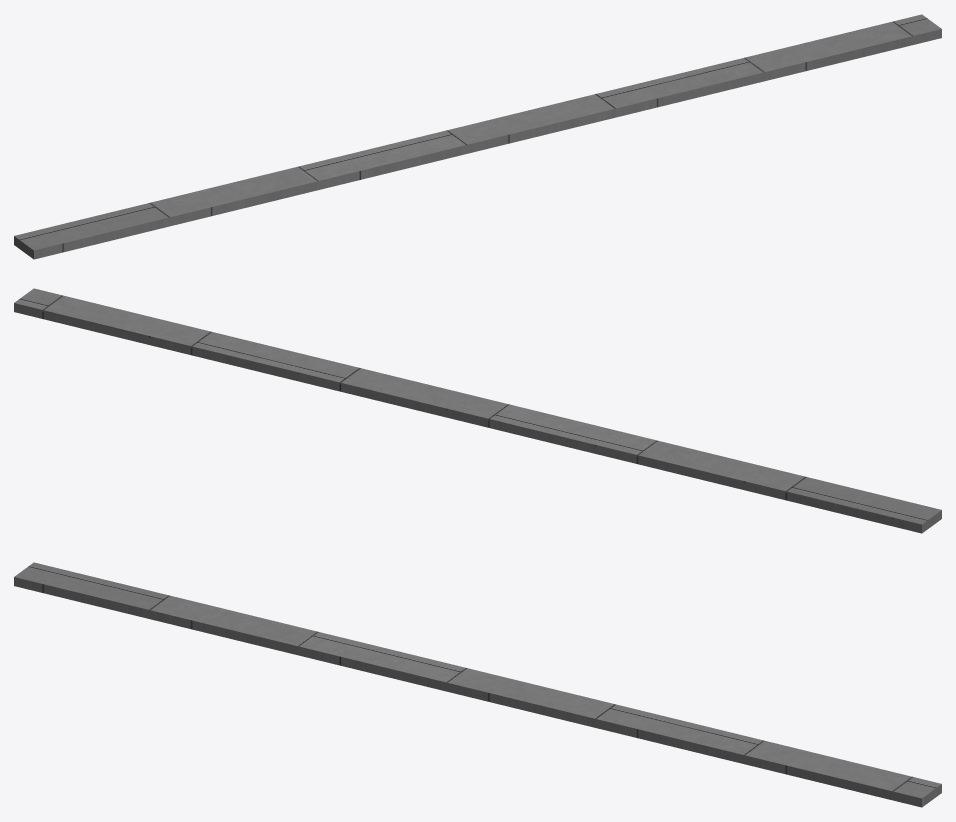
The model's file is WalkWay.fbx.
3 renders of one model, top to bottom at view 1: azimuth 30°, elevation 25°; view 2: azimuth 150°, elevation 25°; view 3: azimuth 330°, elevation 25°, orthographic.
Visible parts, largest first — view 1: Walkway1_S; view 2: Walkway1_S; view 3: Walkway1_S.
Boxes of the visible parts, bbox=[...] form: Walkway1_S: bbox=[14, 14, 941, 259]; Walkway1_S: bbox=[14, 288, 941, 533]; Walkway1_S: bbox=[14, 562, 941, 807].
Size of the model in its own units: 10500 by 100 by 400.
